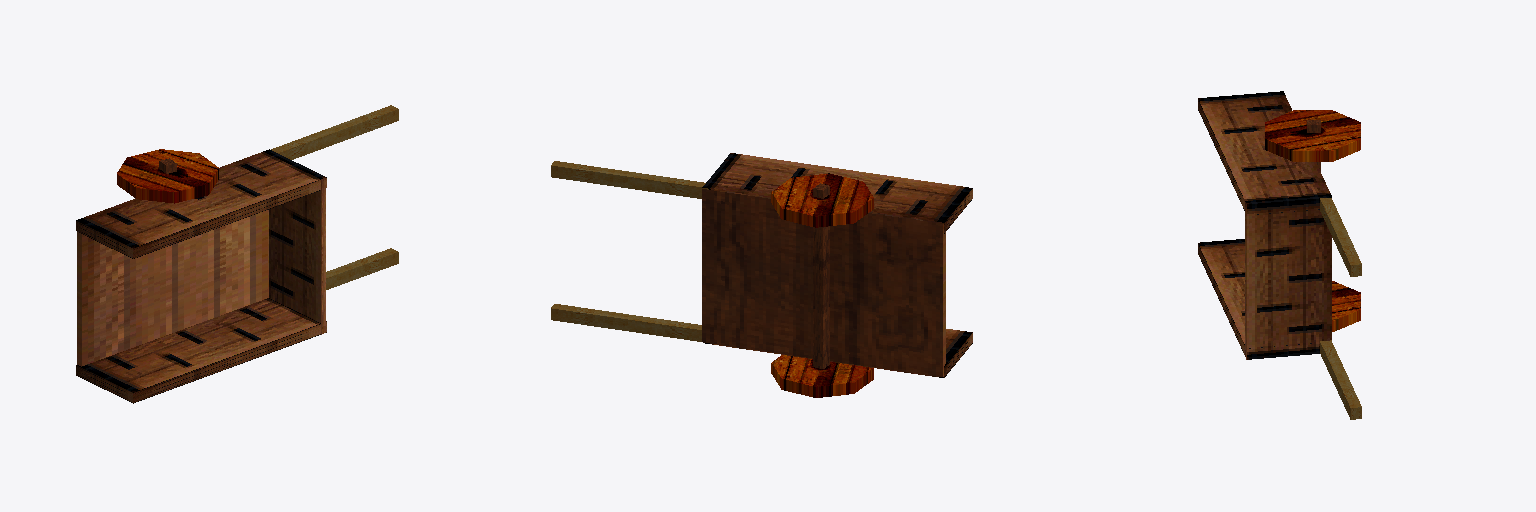
3 renders of one model, left to right at view 1: azimuth 30°, elevation 25°; view 2: azimuth 150°, elevation 25°; view 3: azimuth 270°, elevation 25°, orthographic.
Bounding box in the file's own units: 14.34 × 7.59 × 5.73.
Materials: 5 (5 with a texture image).